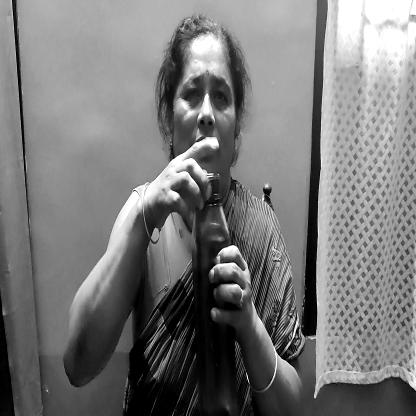Normal: (161, 22, 249, 201)
